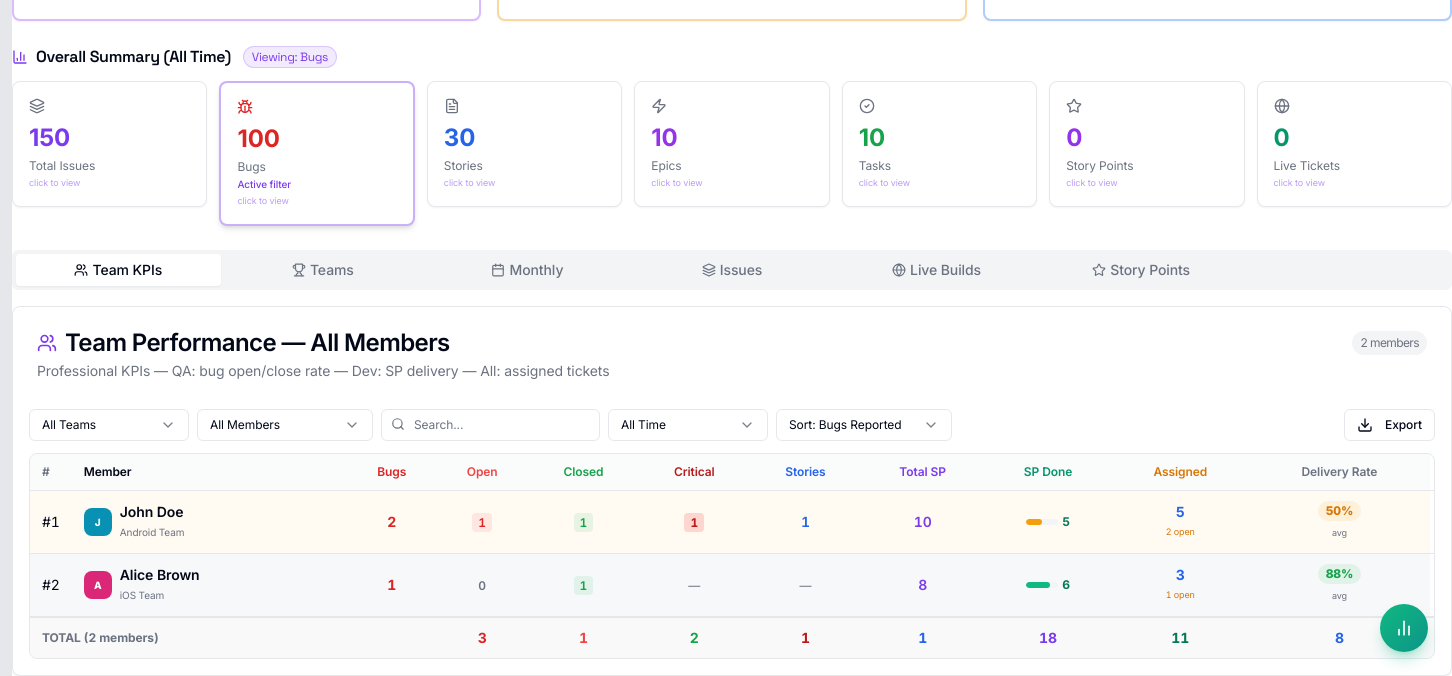
Scenario: Jira KPI Dashboard — Filter Behaviour › Comprehensive: filters flow through a realistic workflow
(page scrolled)
Click the dropdown labelled "All Teams". click: {"x": 109, "y": 424}
box: left=29, top=408, right=189, bottom=440
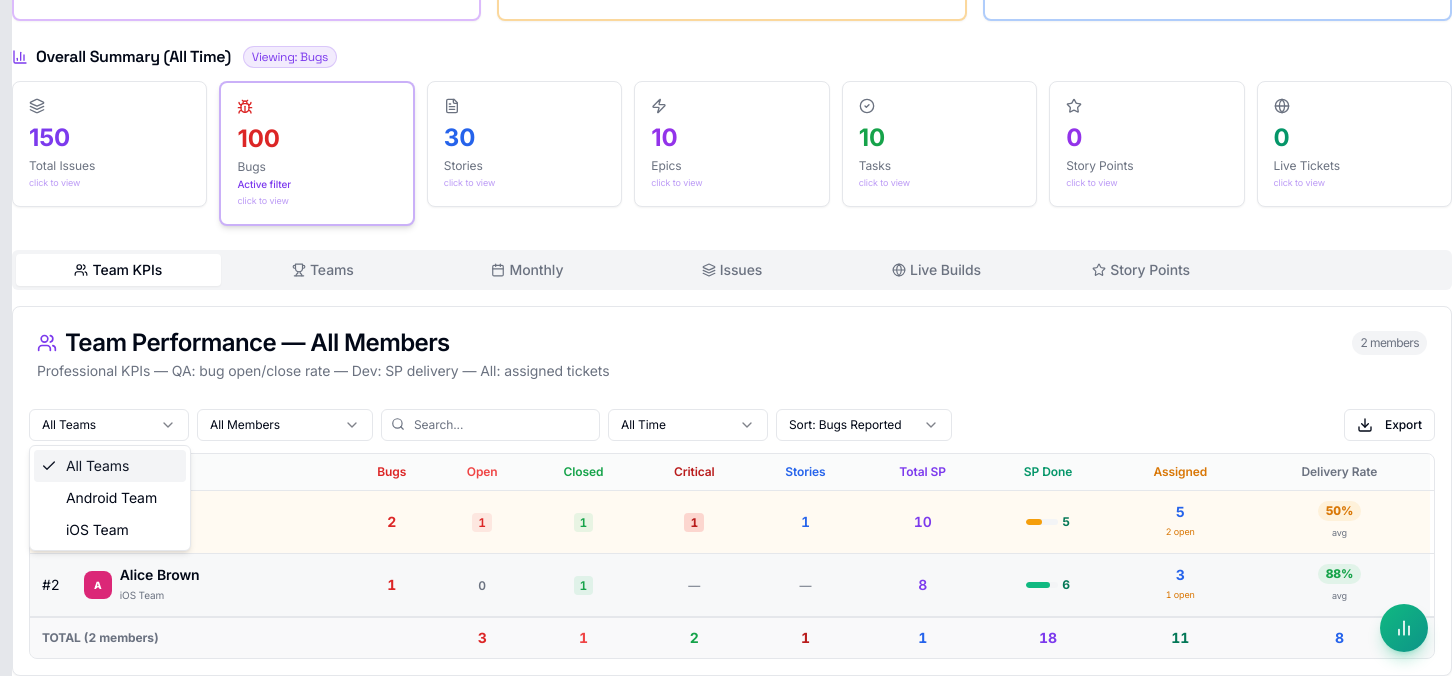
Click the option "Android Team". click: {"x": 112, "y": 498}
box: left=66, top=489, right=157, bottom=506
(page scrolled)
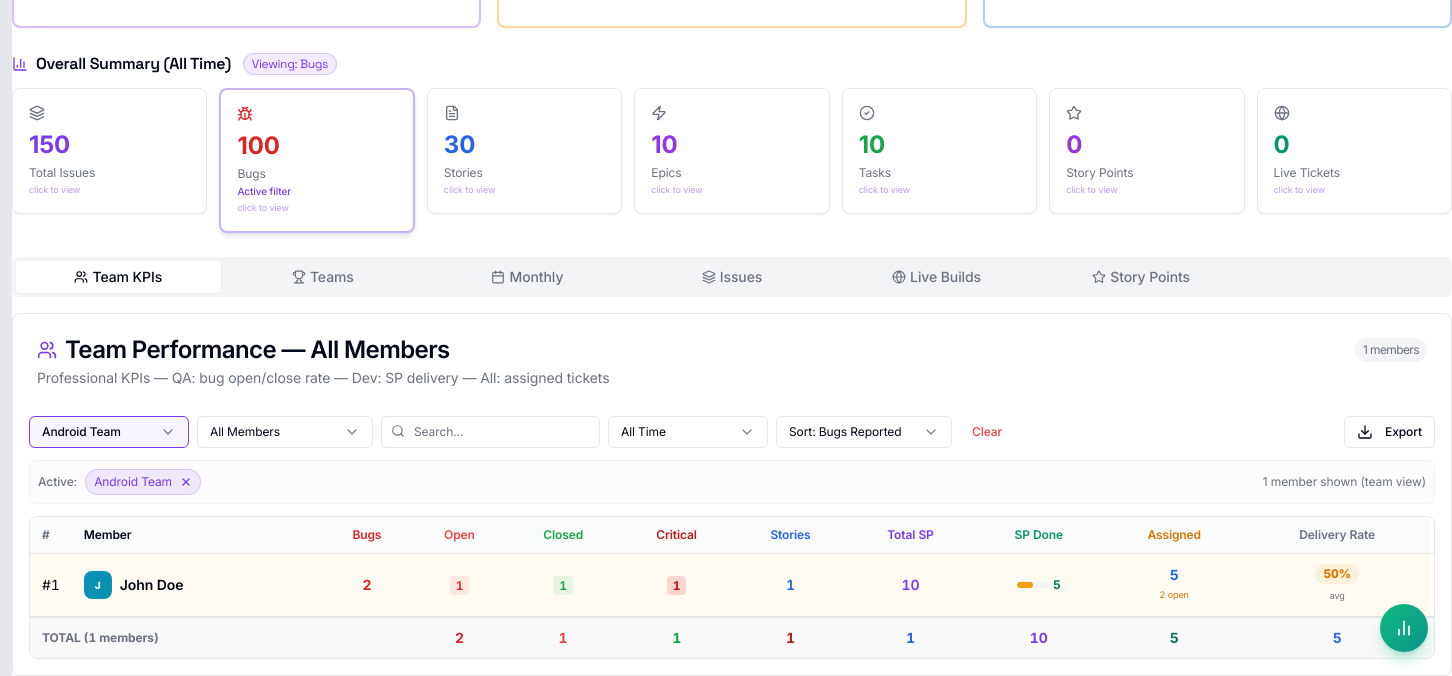
Click the text "Bugs". click: {"x": 317, "y": 160}
box: left=219, top=88, right=415, bottom=232
(page scrolled)
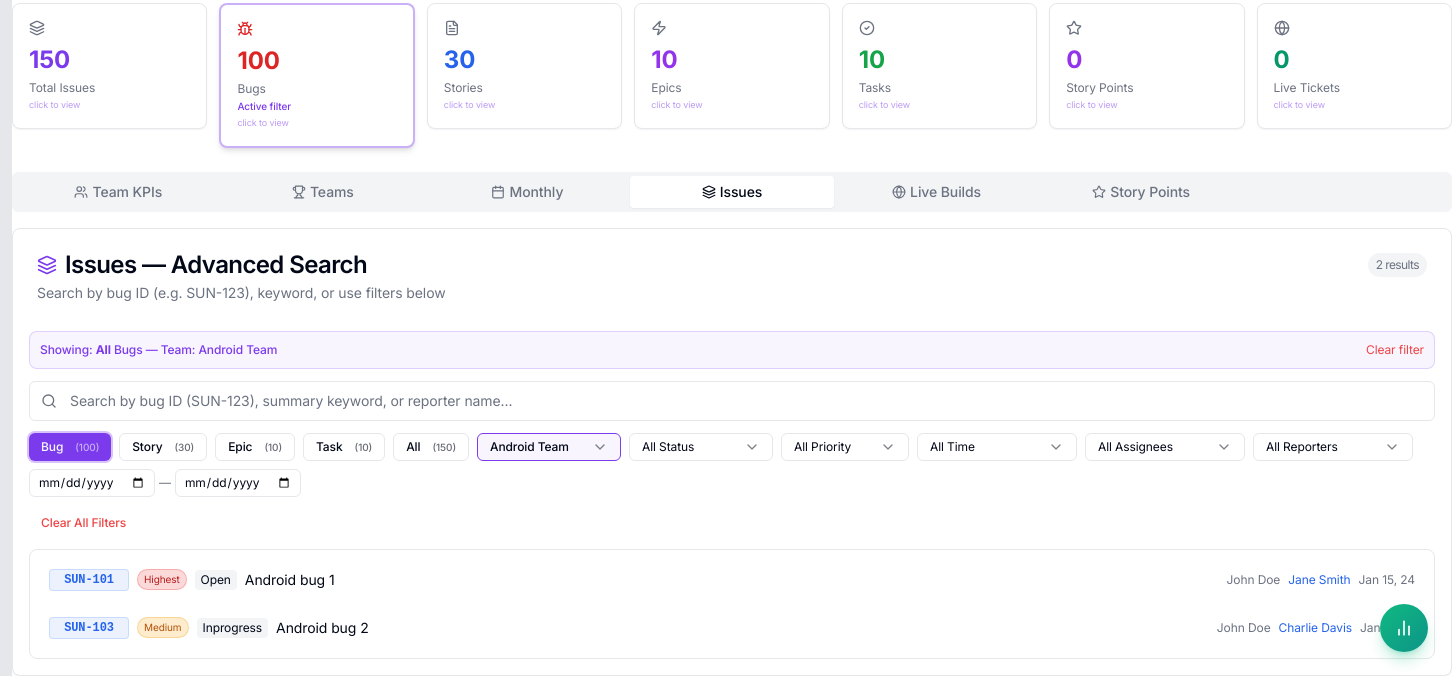
Result: the text "2 results" is shown at left=1368, top=252, right=1427, bottom=276
